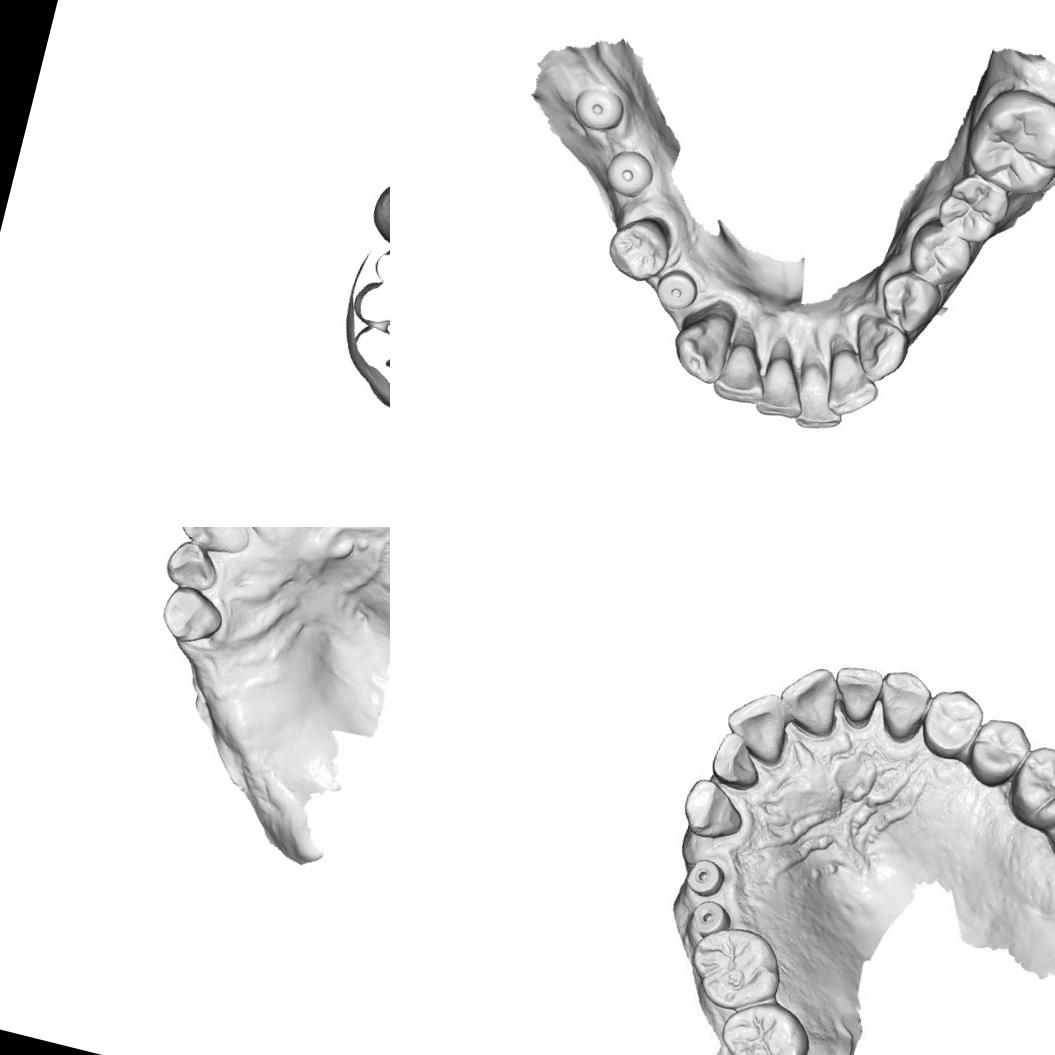canine: (866, 660, 938, 748), (674, 770, 752, 846), (840, 309, 914, 388), (666, 306, 736, 386), (154, 580, 232, 650)
implant: (600, 142, 658, 202), (568, 80, 628, 136), (650, 264, 702, 314), (683, 851, 729, 897), (687, 894, 731, 938)
incisor: (720, 685, 795, 767), (777, 658, 846, 738), (817, 347, 886, 423), (790, 361, 853, 434), (710, 340, 773, 410), (752, 354, 812, 424), (828, 656, 884, 731), (160, 535, 224, 595), (709, 733, 766, 790), (174, 527, 260, 558)
molar: (960, 80, 1055, 203), (683, 919, 784, 1015), (930, 166, 1015, 250), (709, 992, 814, 1055), (1005, 736, 1055, 836)
premolar: (916, 678, 988, 765), (601, 208, 678, 288), (902, 216, 978, 290), (962, 712, 1030, 793), (872, 268, 943, 339)
